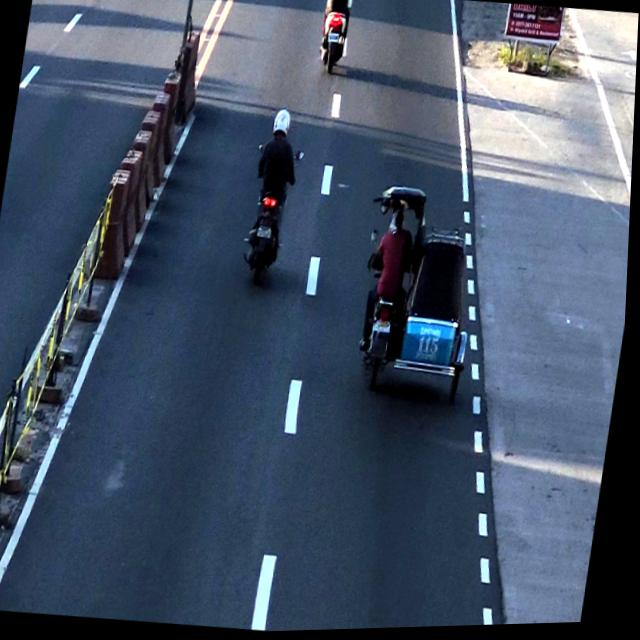License-Plate: (255, 223, 275, 244), (325, 29, 342, 49)
Motorcycle: (239, 100, 304, 299), (311, 0, 355, 74)
Tricycle: (346, 183, 498, 410)
